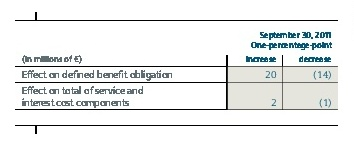table: (0, 0, 354, 148)
